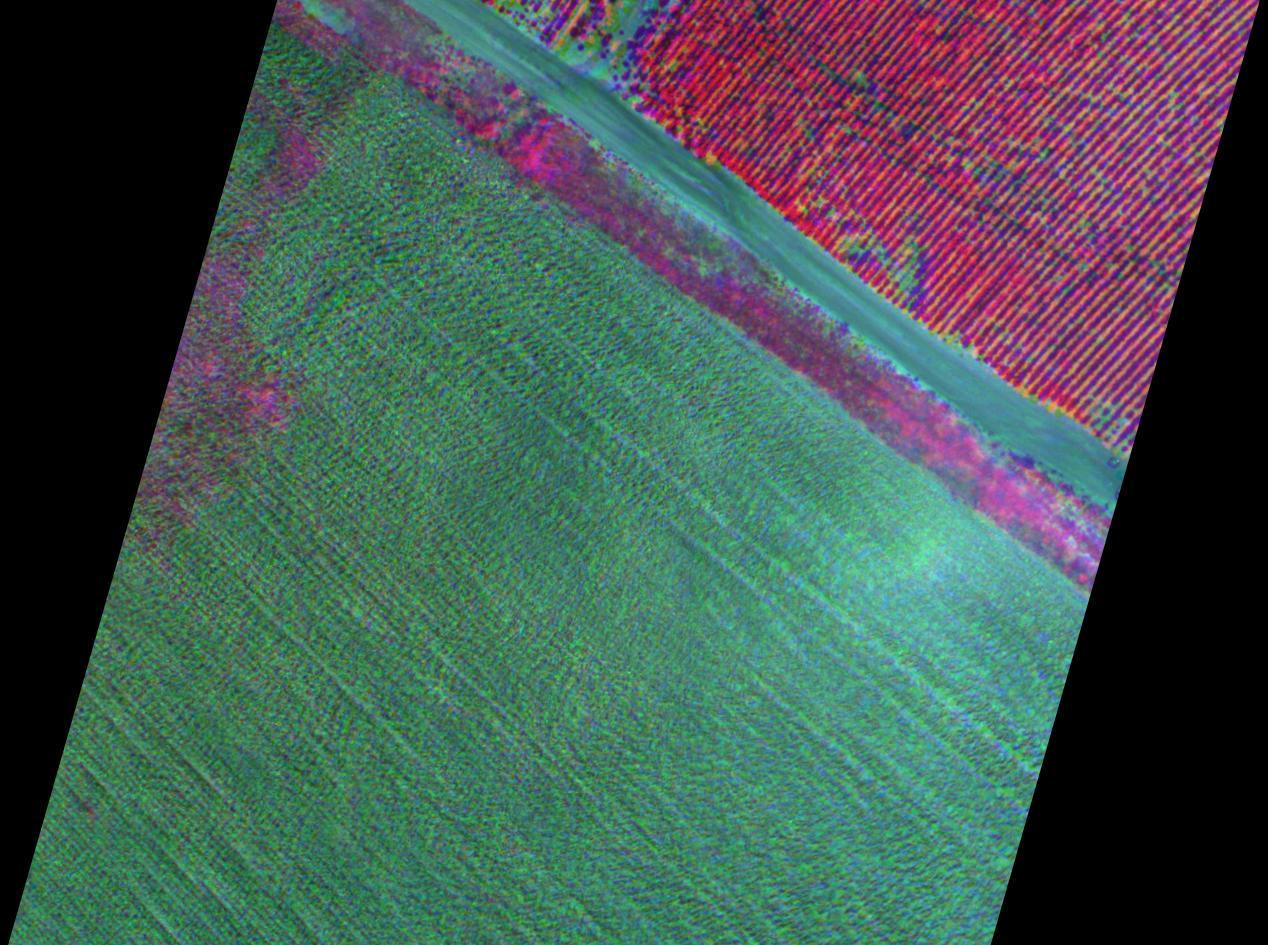dc: (620, 17, 626, 23), (601, 69, 607, 75), (899, 272, 903, 276), (1102, 417, 1106, 421), (572, 51, 576, 55)
